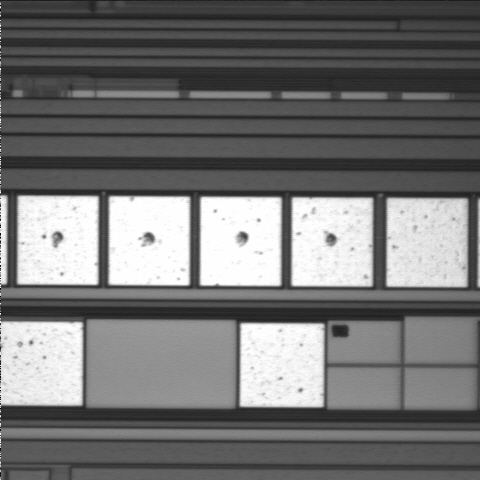pad: (17, 196, 99, 285), (109, 196, 190, 286), (200, 197, 281, 286), (292, 197, 373, 286), (387, 198, 467, 287), (240, 323, 324, 407)
